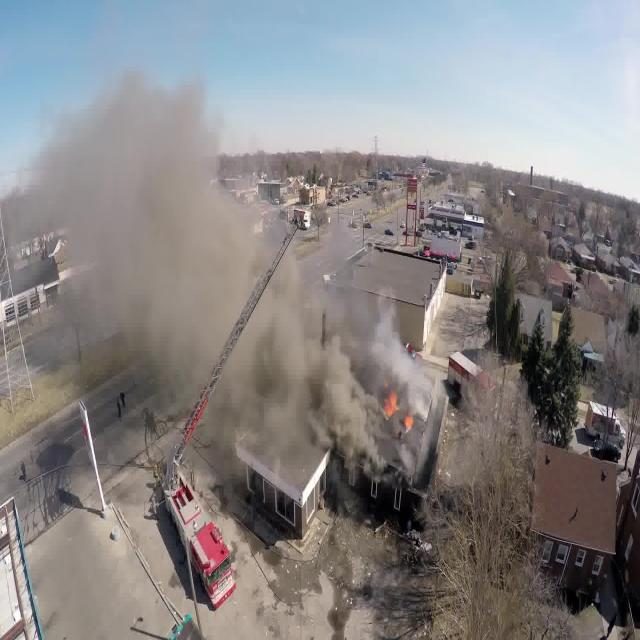Fire: (378, 388, 401, 420), (402, 415, 415, 434)
Smoke: (0, 80, 428, 474)
